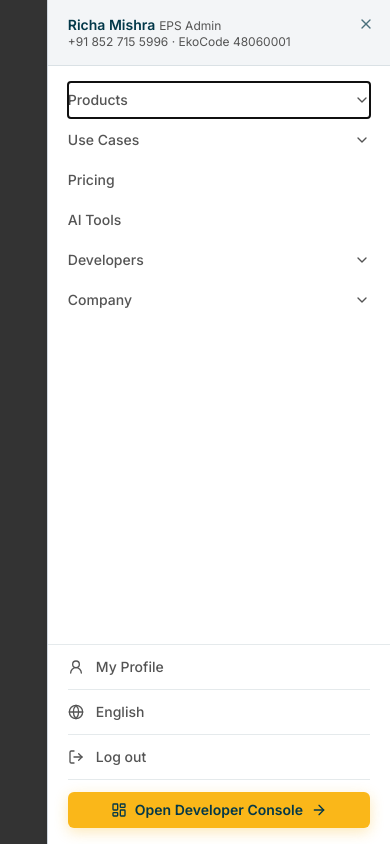
Test: mobile drawer account section › keeps the language list open when its row is tapped
Click the button with aria-label "select language" at [120, 712], box [68,690,370,734]
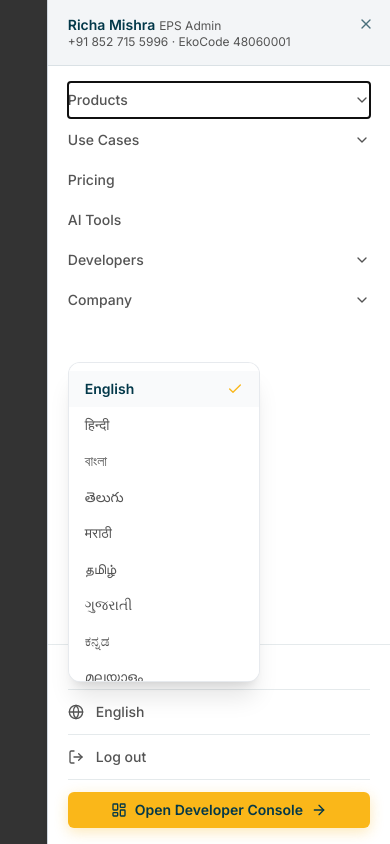
expect the button "हिन्दी" is shown: met, box [69,407,259,443]
